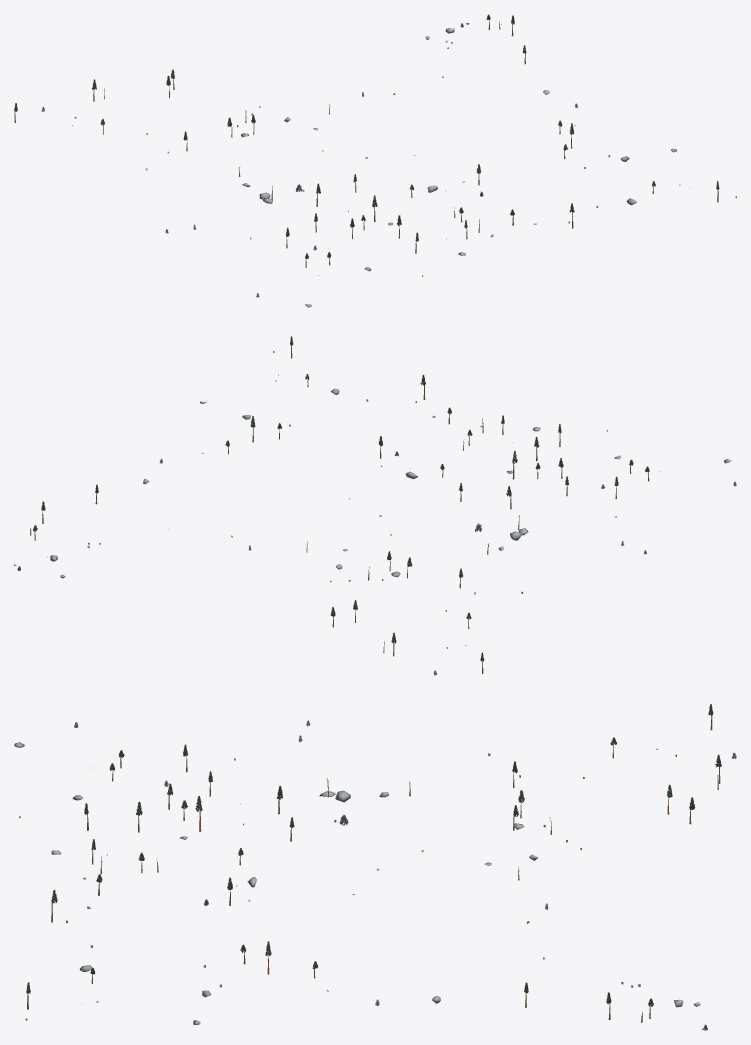
The model's file is frost_land_scatter_c14_09_lod1.glb.
The picture shows the model from 3 angles, top to bottom: view 1: azimuth 30°, elevation 25°; view 2: azimuth 150°, elevation 25°; view 3: azimuth 270°, elevation 25°; orthographic projection. The views are drawn at different scales.
Visible parts, largest first — view 1: frost_land_scatter_c14_09_lod1; view 2: frost_land_scatter_c14_09_lod1; view 3: frost_land_scatter_c14_09_lod1.
Boxes of the visible parts, left/top/right/bottom form: frost_land_scatter_c14_09_lod1: left=14, top=14, right=736, bottom=307; frost_land_scatter_c14_09_lod1: left=14, top=336, right=736, bottom=675; frost_land_scatter_c14_09_lod1: left=14, top=704, right=736, bottom=1030.
Size of the model in its own units: 255 by 21.85 by 259.
